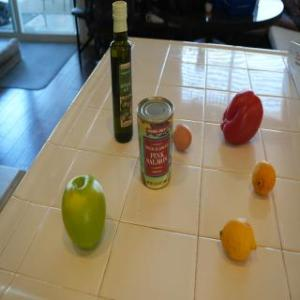bell_pepper: (218, 86, 264, 148)
egg: (174, 121, 194, 153)
